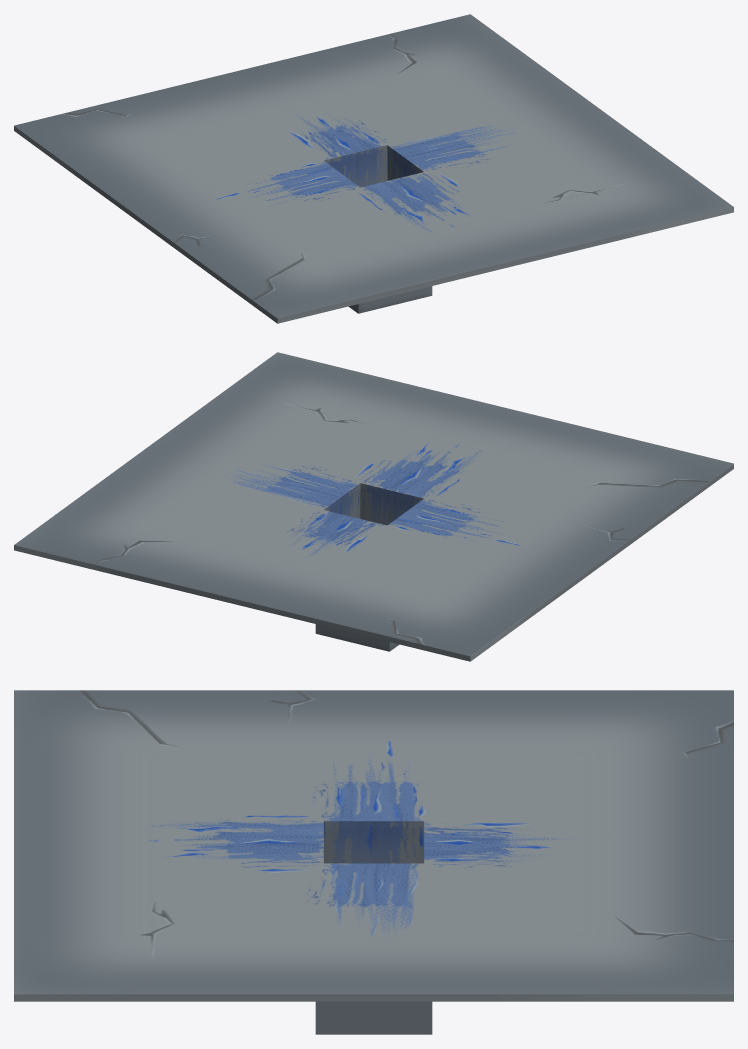
File: ploca sa rupom blue.fbx
The picture shows the model from 3 angles, top to bottom: view 1: azimuth 30°, elevation 25°; view 2: azimuth 150°, elevation 25°; view 3: azimuth 270°, elevation 25°; orthographic projection. The views are drawn at different scales.
Visible parts, largest first — view 1: Cube.009, Cube.008; view 2: Cube.009, Cube.008; view 3: Cube.009, Cube.008.
Part boxes in pixels (x1,y1,x2,y2): Cube.009: (14, 14, 733, 323); Cube.008: (330, 150, 432, 313); Cube.009: (14, 352, 733, 661); Cube.008: (315, 488, 417, 651); Cube.009: (14, 690, 733, 1001); Cube.008: (315, 828, 432, 1034).
Bounding box in the file's own units: 900 × 231 × 900.
Materials: 1 (1 with a texture image).
